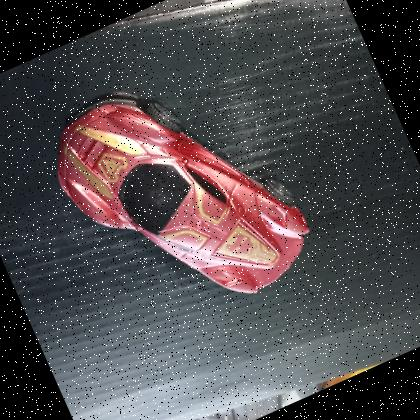Car: (28, 38, 330, 352)
